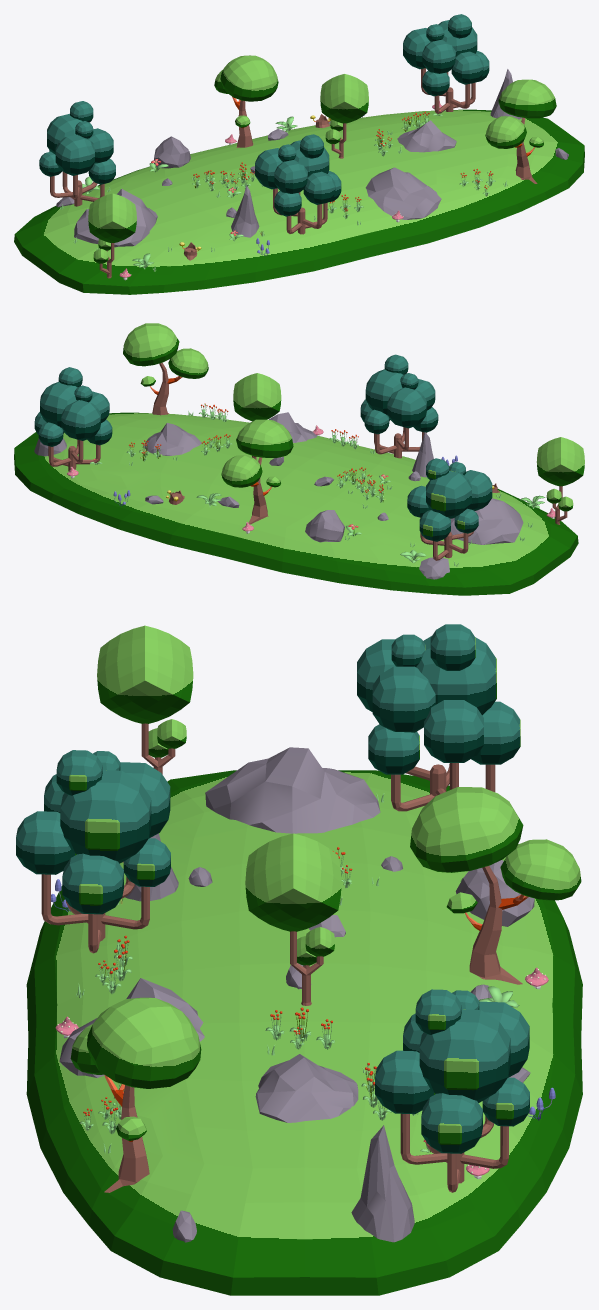
The model's file is Summer_wall.fbx.
3 renders of one model, top to bottom at view 1: azimuth 30°, elevation 25°; view 2: azimuth 150°, elevation 25°; view 3: azimuth 270°, elevation 25°, orthographic. The views are drawn at different scales.
Parts seen in each view (by area): view 1: Tree.181; view 2: Tree.181; view 3: Tree.181.
Part boxes in pixels (x1,y1,x2,y2): Tree.181: (14, 14, 584, 294); Tree.181: (14, 323, 584, 595); Tree.181: (16, 624, 582, 1295).
Size of the model in its own units: 6325 by 1429 by 2987.
